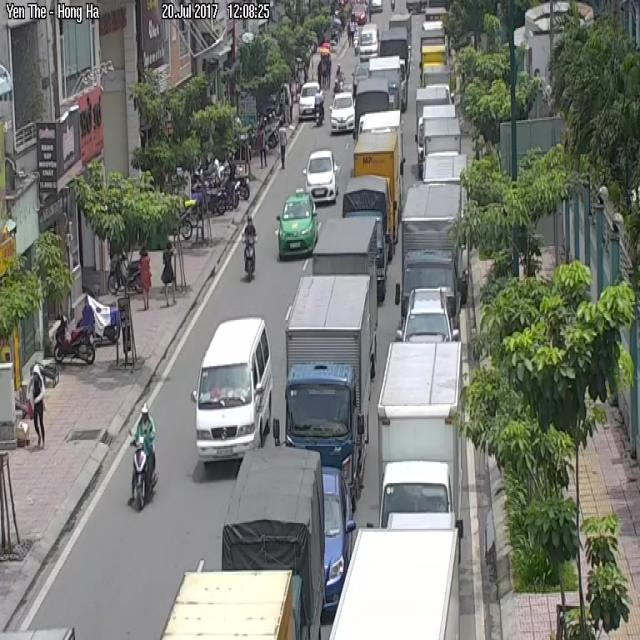car: (128, 404, 157, 508), (53, 326, 95, 363), (244, 216, 257, 279), (315, 90, 323, 126)
traffic-light: (194, 319, 274, 464), (322, 467, 353, 615), (277, 188, 318, 259), (305, 150, 338, 200), (330, 92, 354, 132), (298, 83, 318, 119)
truck: (283, 268, 370, 488), (378, 334, 462, 515), (401, 178, 462, 298)
